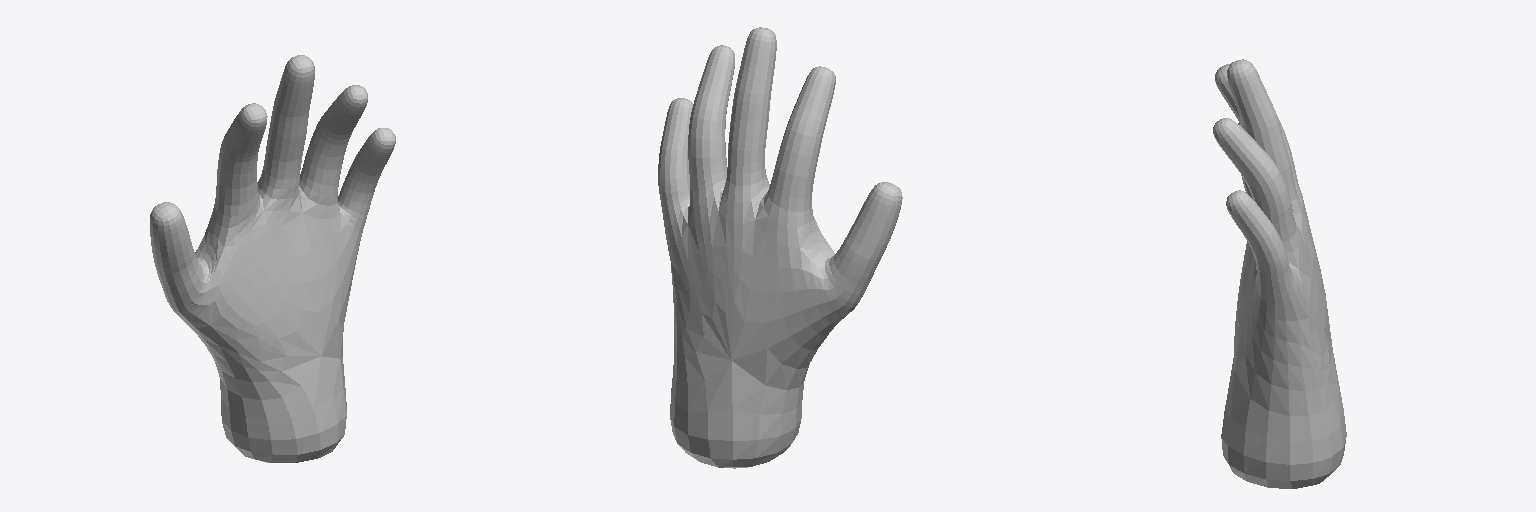
The model's file is handanimatsion5.obj.
3 views of the same model, side by side, from view 1: azimuth 30°, elevation 25°; view 2: azimuth 150°, elevation 25°; view 3: azimuth 270°, elevation 25° (orthographic).
Parts seen in each view (by area): view 1: Cube; view 2: Cube; view 3: Cube.
Part boxes in pixels (bbox=[...]): Cube: bbox=[150, 55, 395, 462]; Cube: bbox=[658, 27, 902, 468]; Cube: bbox=[1213, 59, 1346, 488].
Size of the model in its own units: 3.83 by 6.43 by 1.88.